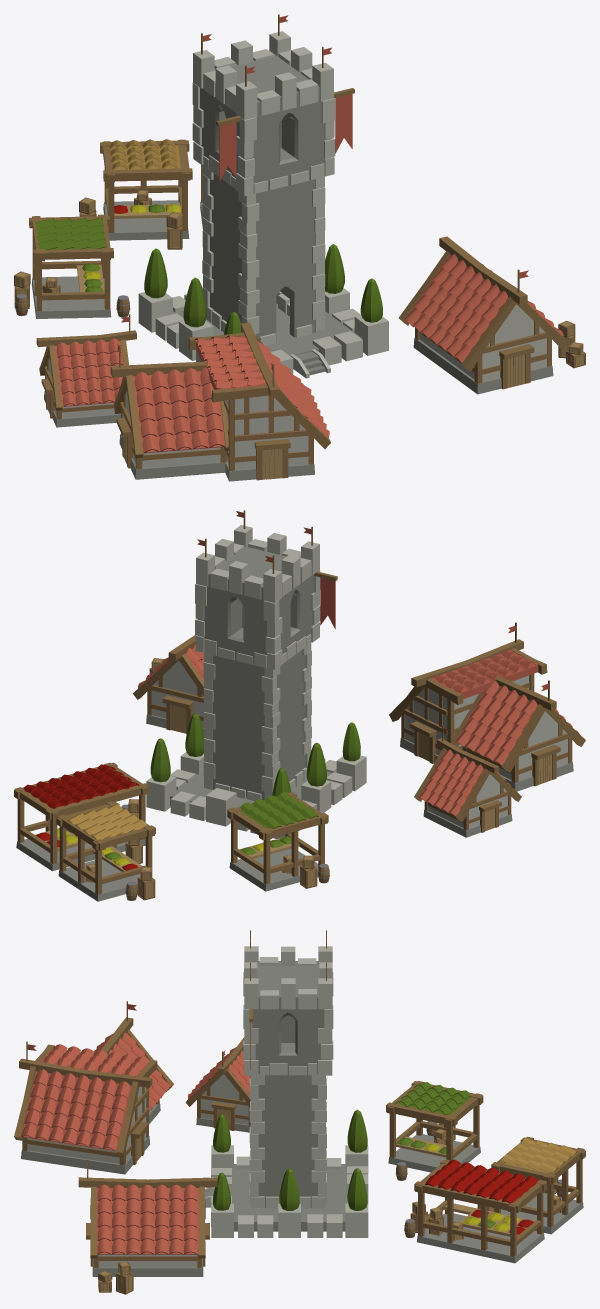
File: civ-MC-V.glb
3 views of the same model, one above another, from view 1: azimuth 30°, elevation 25°; view 2: azimuth 150°, elevation 25°; view 3: azimuth 270°, elevation 25° (orthographic). The views are drawn at different scales.
Parts seen in each view (by area): view 1: WatchTower_SecondAge_Level3, Houses_SecondAge_2_Level3, Market_SecondAge_Level2, Houses_SecondAge_1_Level2; view 2: WatchTower_SecondAge_Level3, Houses_SecondAge_2_Level3, Market_SecondAge_Level2, Houses_SecondAge_1_Level2; view 3: WatchTower_SecondAge_Level3, Market_SecondAge_Level2, Houses_SecondAge_2_Level3, Houses_SecondAge_1_Level2.
Boxes of the visible parts, x1,y1,x2,y2 form: WatchTower_SecondAge_Level3: (138,14,388,378); Houses_SecondAge_2_Level3: (36,314,330,481); Market_SecondAge_Level2: (14,139,202,318); Houses_SecondAge_1_Level2: (399,236,585,394); WatchTower_SecondAge_Level3: (146,510,366,838); Houses_SecondAge_2_Level3: (389,622,585,837); Market_SecondAge_Level2: (14,762,329,901); Houses_SecondAge_1_Level2: (133,635,203,733); WatchTower_SecondAge_Level3: (205,930,368,1237); Market_SecondAge_Level2: (386,1081,585,1263); Houses_SecondAge_2_Level3: (14,1001,250,1174); Houses_SecondAge_1_Level2: (78,1159,217,1294).
Size of the model in its own units: 3.96 by 2.45 by 4.83.
